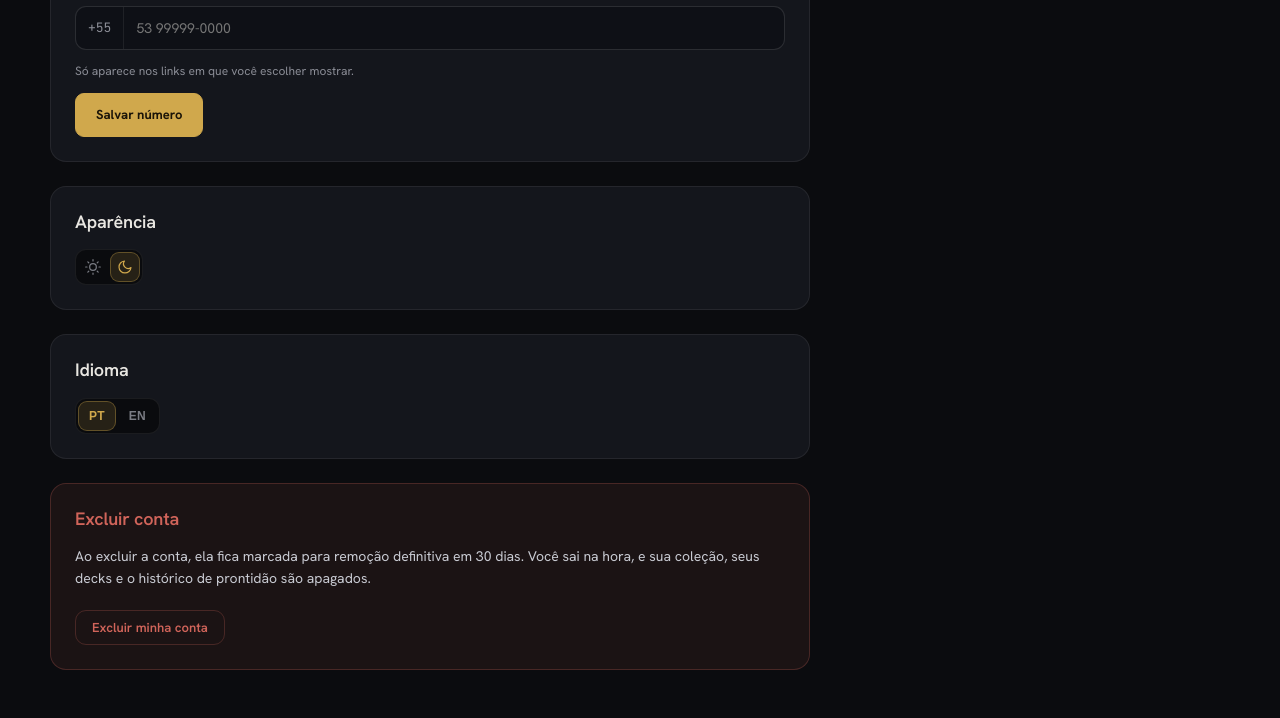
Test: SettingsPage — Account section: delete modal trigger › closes the modal when Cancel is clicked inside it
The width and height of the screenshot is (1280, 718).
(page scrolled)
Click the button "Excluir minha conta": [150, 627] box [75,610,225,645]
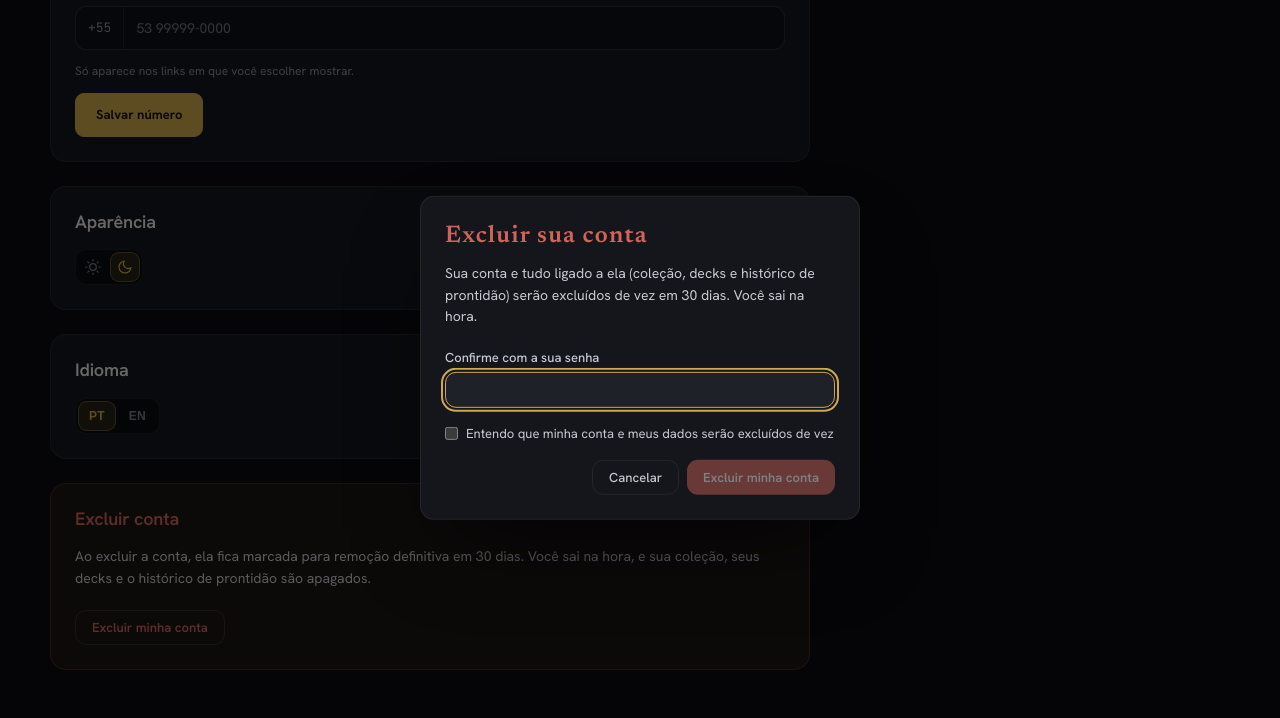
Expected: the dialog is shown, [420,196,860,520]
Click the button "Cancelar": [636, 478] box [592,460,679,495]
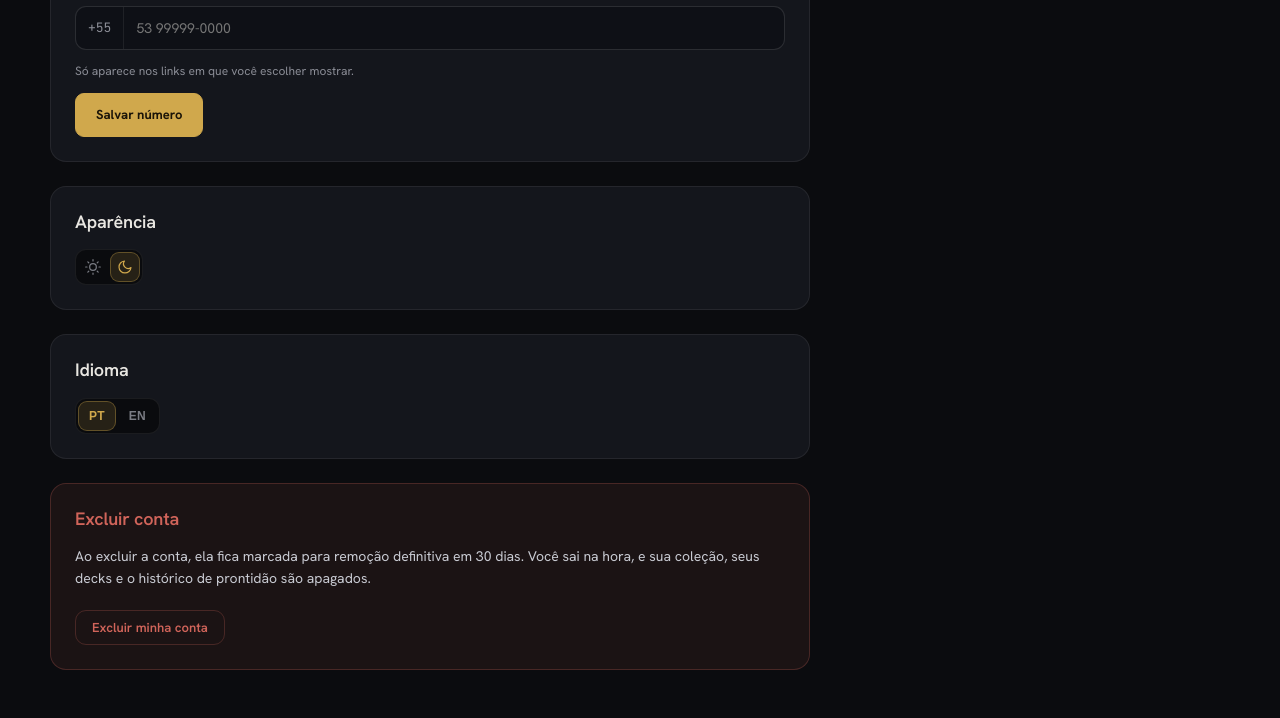
Expected: the dialog is gone
